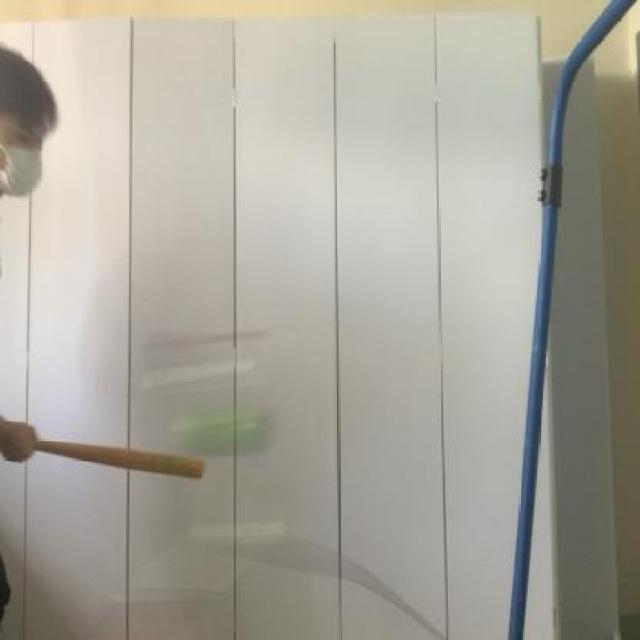baseball: (153, 390, 282, 468)
